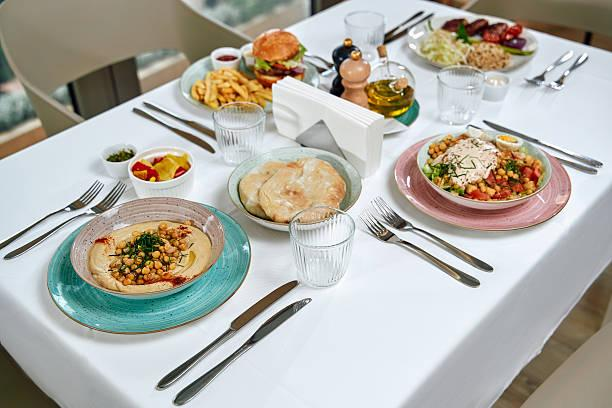Braised Crucian Carp: (71, 197, 230, 300), (179, 32, 322, 121), (416, 127, 554, 210), (227, 146, 360, 231), (407, 14, 538, 73)
